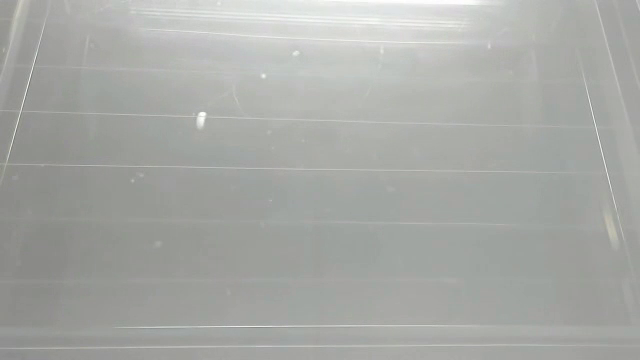alpha: (189, 107, 217, 133)
